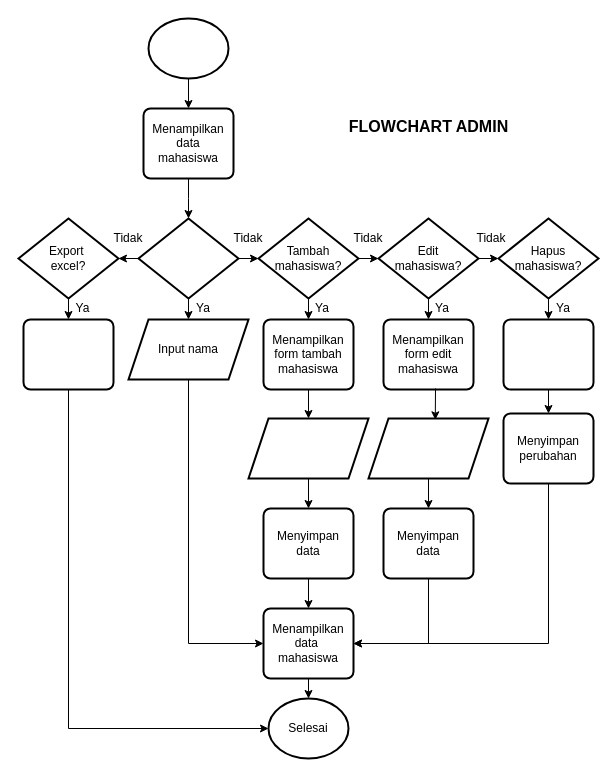
Image size: 616x776. Some labels were removed from this diagram. The centre of each missing label's shape, as x and y in pixels:
"Input data mahasiswa yang di edit" goes at (428,448).
"Input mahasiswa" goes at (308,448).
"Mencari mahasiswa?" goes at (188,258).
"Start" goes at (188,48).
"Unduh file excel" goes at (68,354).
"Validasi" goes at (548,354).
